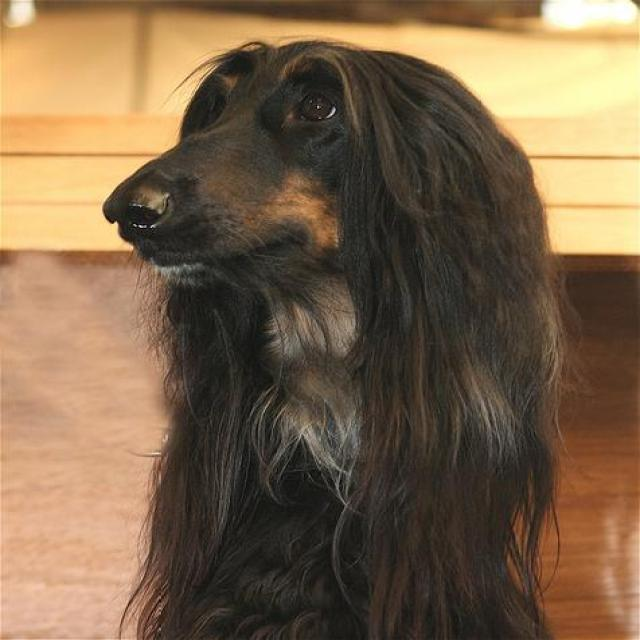afghan_hound: (99, 35, 564, 638)
